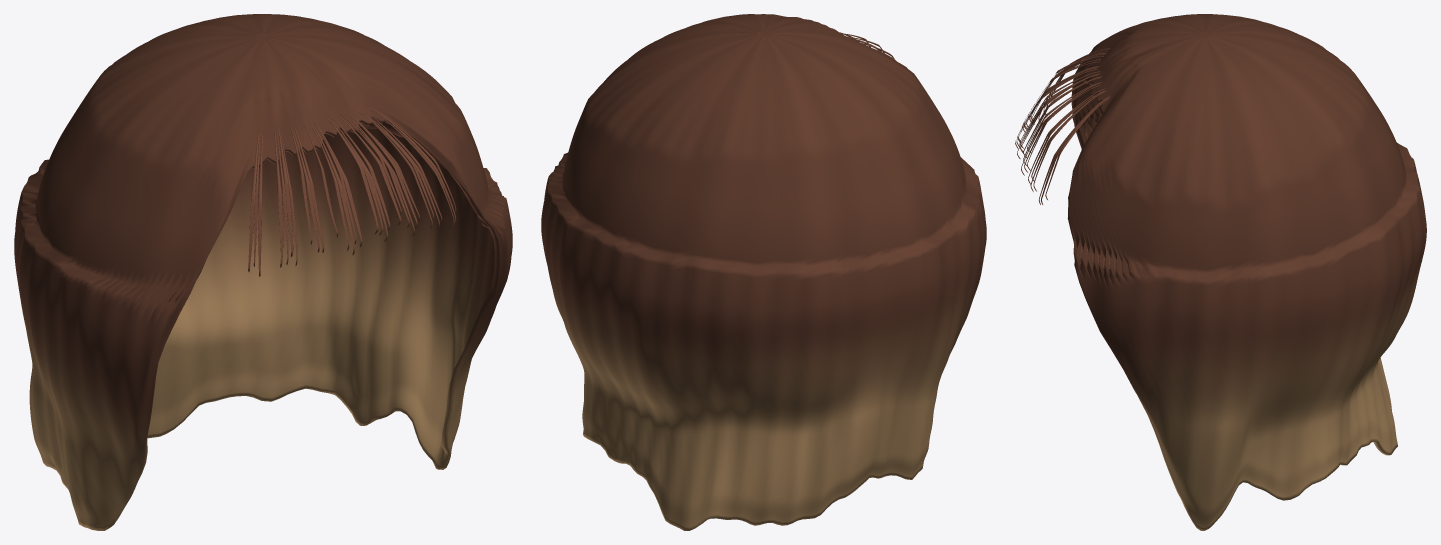
File: side-sweep-beanie-ombre.glb
3 views of the same model, side by side, from view 1: azimuth 30°, elevation 25°; view 2: azimuth 150°, elevation 25°; view 3: azimuth 270°, elevation 25° (orthographic). The views are drawn at different scales.
Visible parts, largest first — view 1: Hair / layered lob, Fringe / fine strands; view 2: Hair / layered lob; view 3: Hair / layered lob, Fringe / fine strands.
Part boxes in pixels (bbox=[...]): Hair / layered lob: bbox=[14, 14, 512, 530]; Fringe / fine strands: bbox=[248, 107, 456, 276]; Hair / layered lob: bbox=[541, 14, 986, 530]; Hair / layered lob: bbox=[1067, 14, 1426, 530]; Fringe / fine strands: bbox=[1015, 48, 1110, 204].
Size of the model in its own units: 0.8388 by 0.8786 by 0.78.
